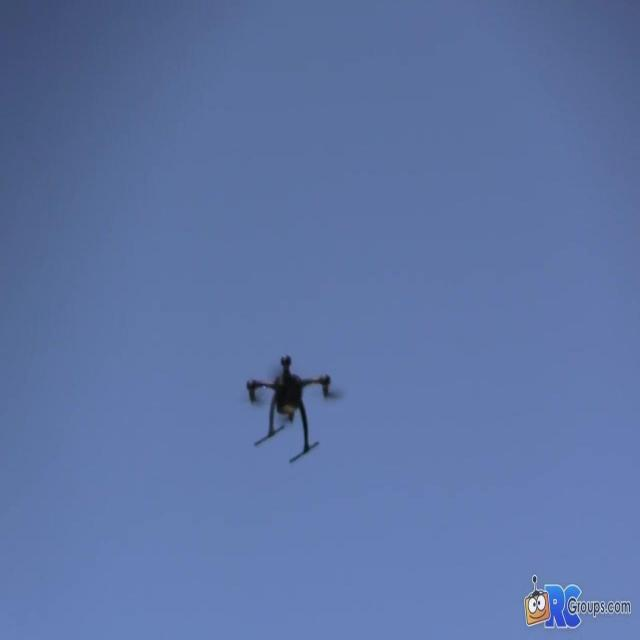UAV: (246, 355, 345, 463)
